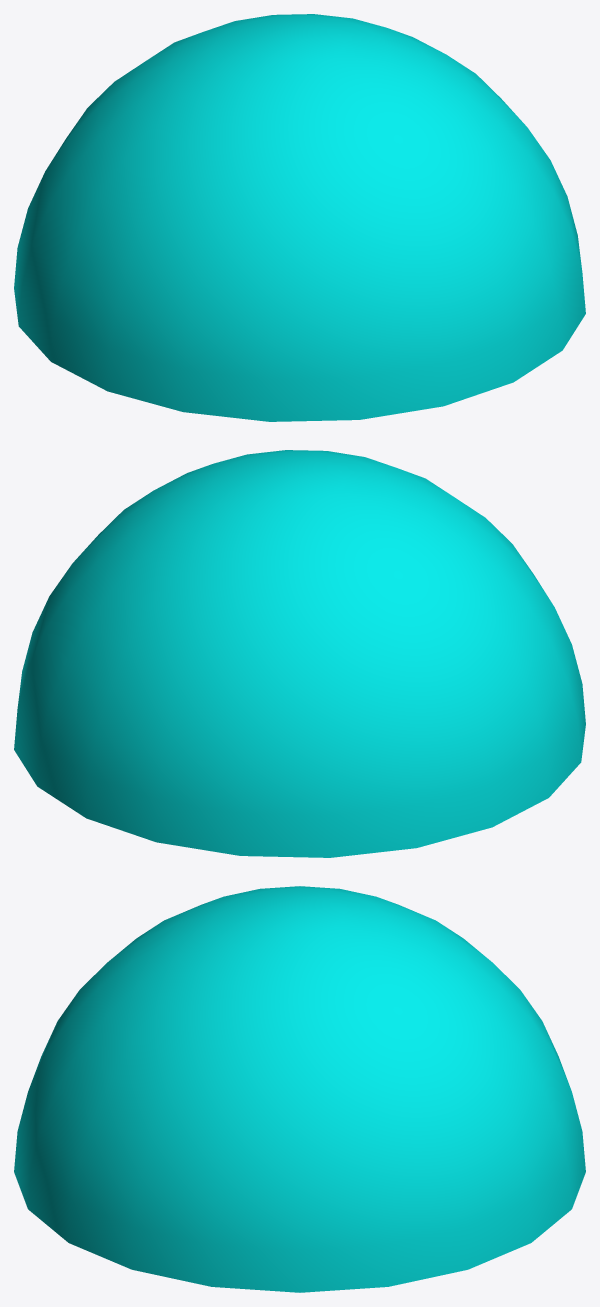
Rendered from Dome.fbx.
3 views of the same model, one above another, from view 1: azimuth 30°, elevation 25°; view 2: azimuth 150°, elevation 25°; view 3: azimuth 270°, elevation 25° (orthographic).
Parts seen in each view (by area): view 1: pSphere1; view 2: pSphere1; view 3: pSphere1.
Part boxes in pixels (x1,y1,x2,y2): pSphere1: (14,14,585,421); pSphere1: (14,450,585,857); pSphere1: (14,886,585,1292).
Bounding box in the file's own units: 6.27 × 3.14 × 6.27.
